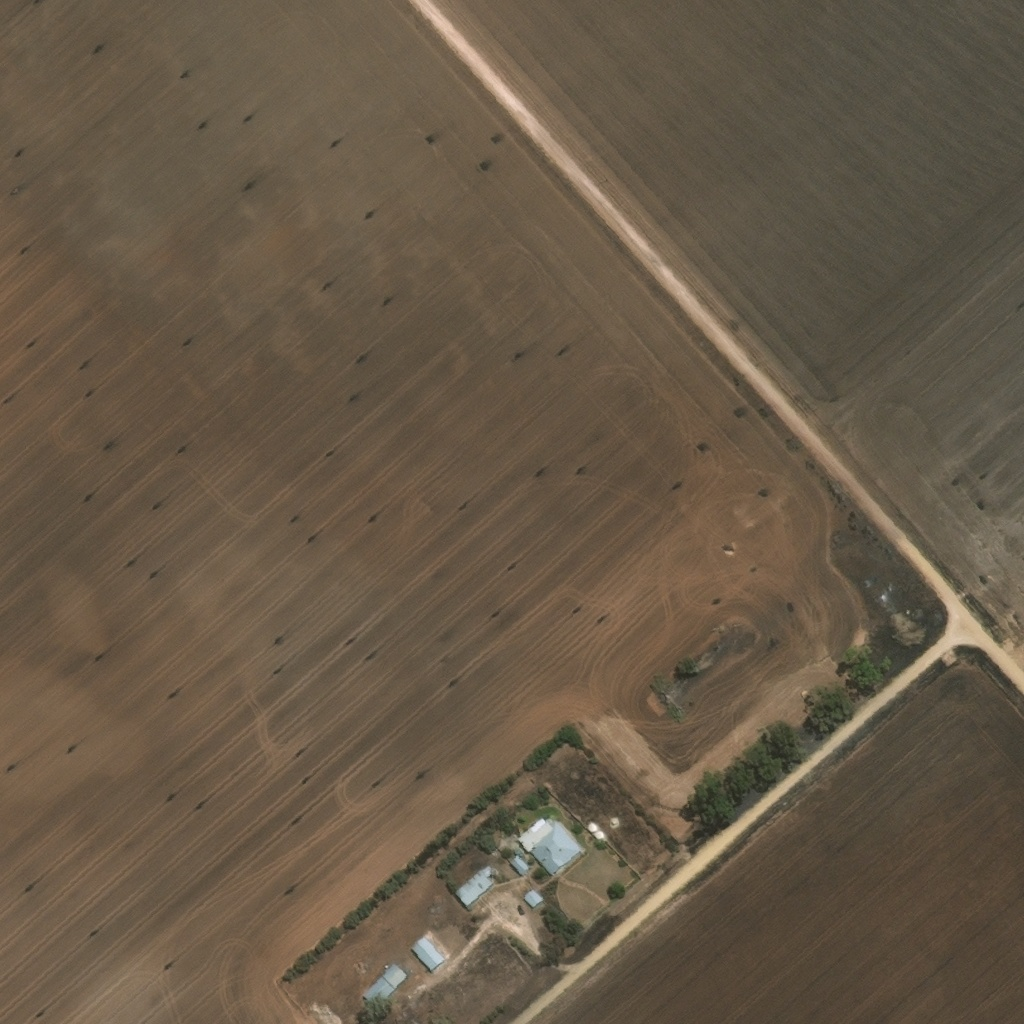0 no-damage: (519, 817, 582, 876), (453, 863, 495, 907), (411, 936, 445, 971), (362, 973, 397, 1007), (381, 961, 409, 988), (523, 886, 544, 908), (509, 854, 530, 875), (587, 823, 597, 832), (595, 831, 604, 838)
